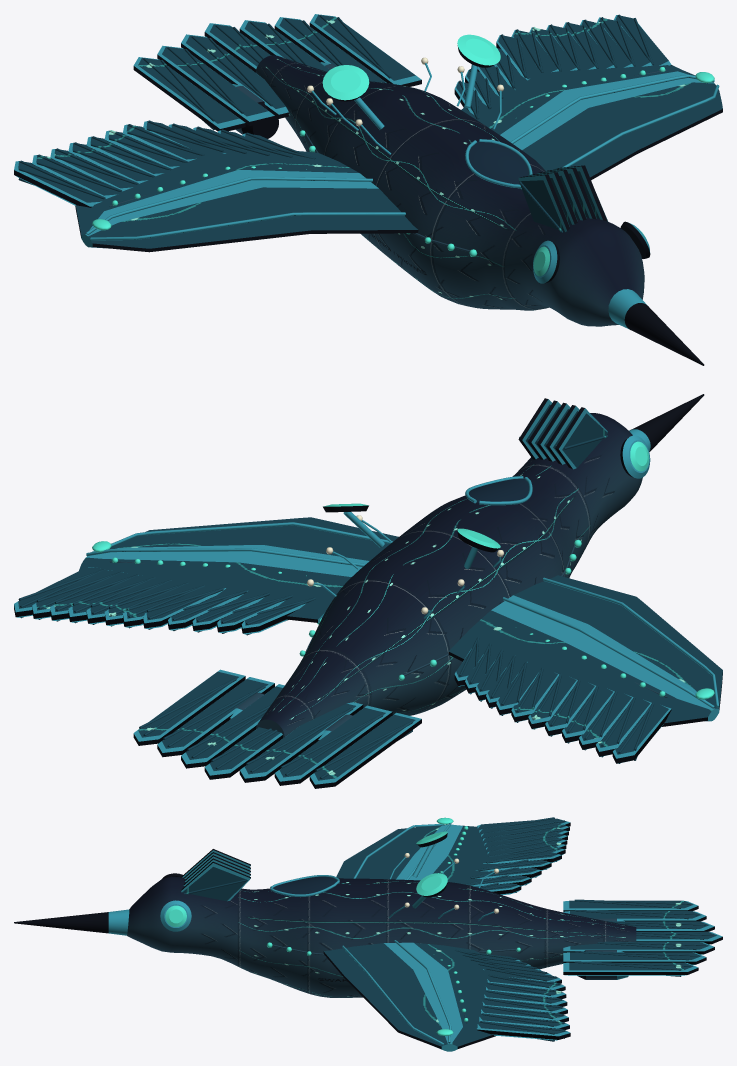
The picture shows the model from 3 angles, top to bottom: view 1: azimuth 30°, elevation 25°; view 2: azimuth 150°, elevation 25°; view 3: azimuth 270°, elevation 25°; orthographic projection. The views are drawn at different scales.
Parts seen in each view (by area): view 1: kingfisher_hull; view 2: kingfisher_hull; view 3: kingfisher_hull.
Boxes of the visible parts, box(x1,y1,x2,y2) form: kingfisher_hull: box(14, 14, 722, 365); kingfisher_hull: box(14, 394, 722, 788); kingfisher_hull: box(14, 817, 722, 1051).
Size of the model in its own units: 12.5 by 3.63 by 17.
Materials: 1 (1 with a texture image).
